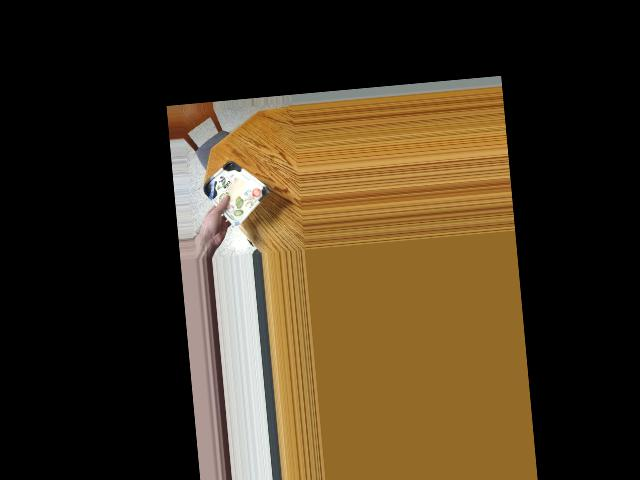cheese: (205, 166, 264, 209)
